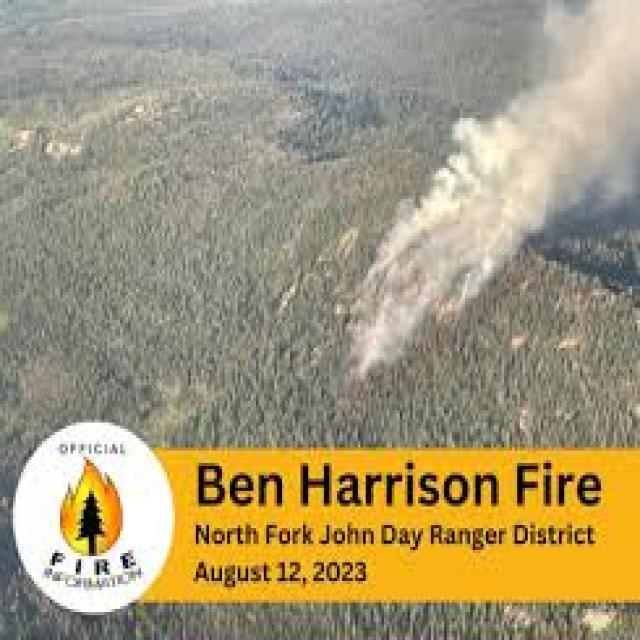Smoke: (300, 0, 635, 398)
